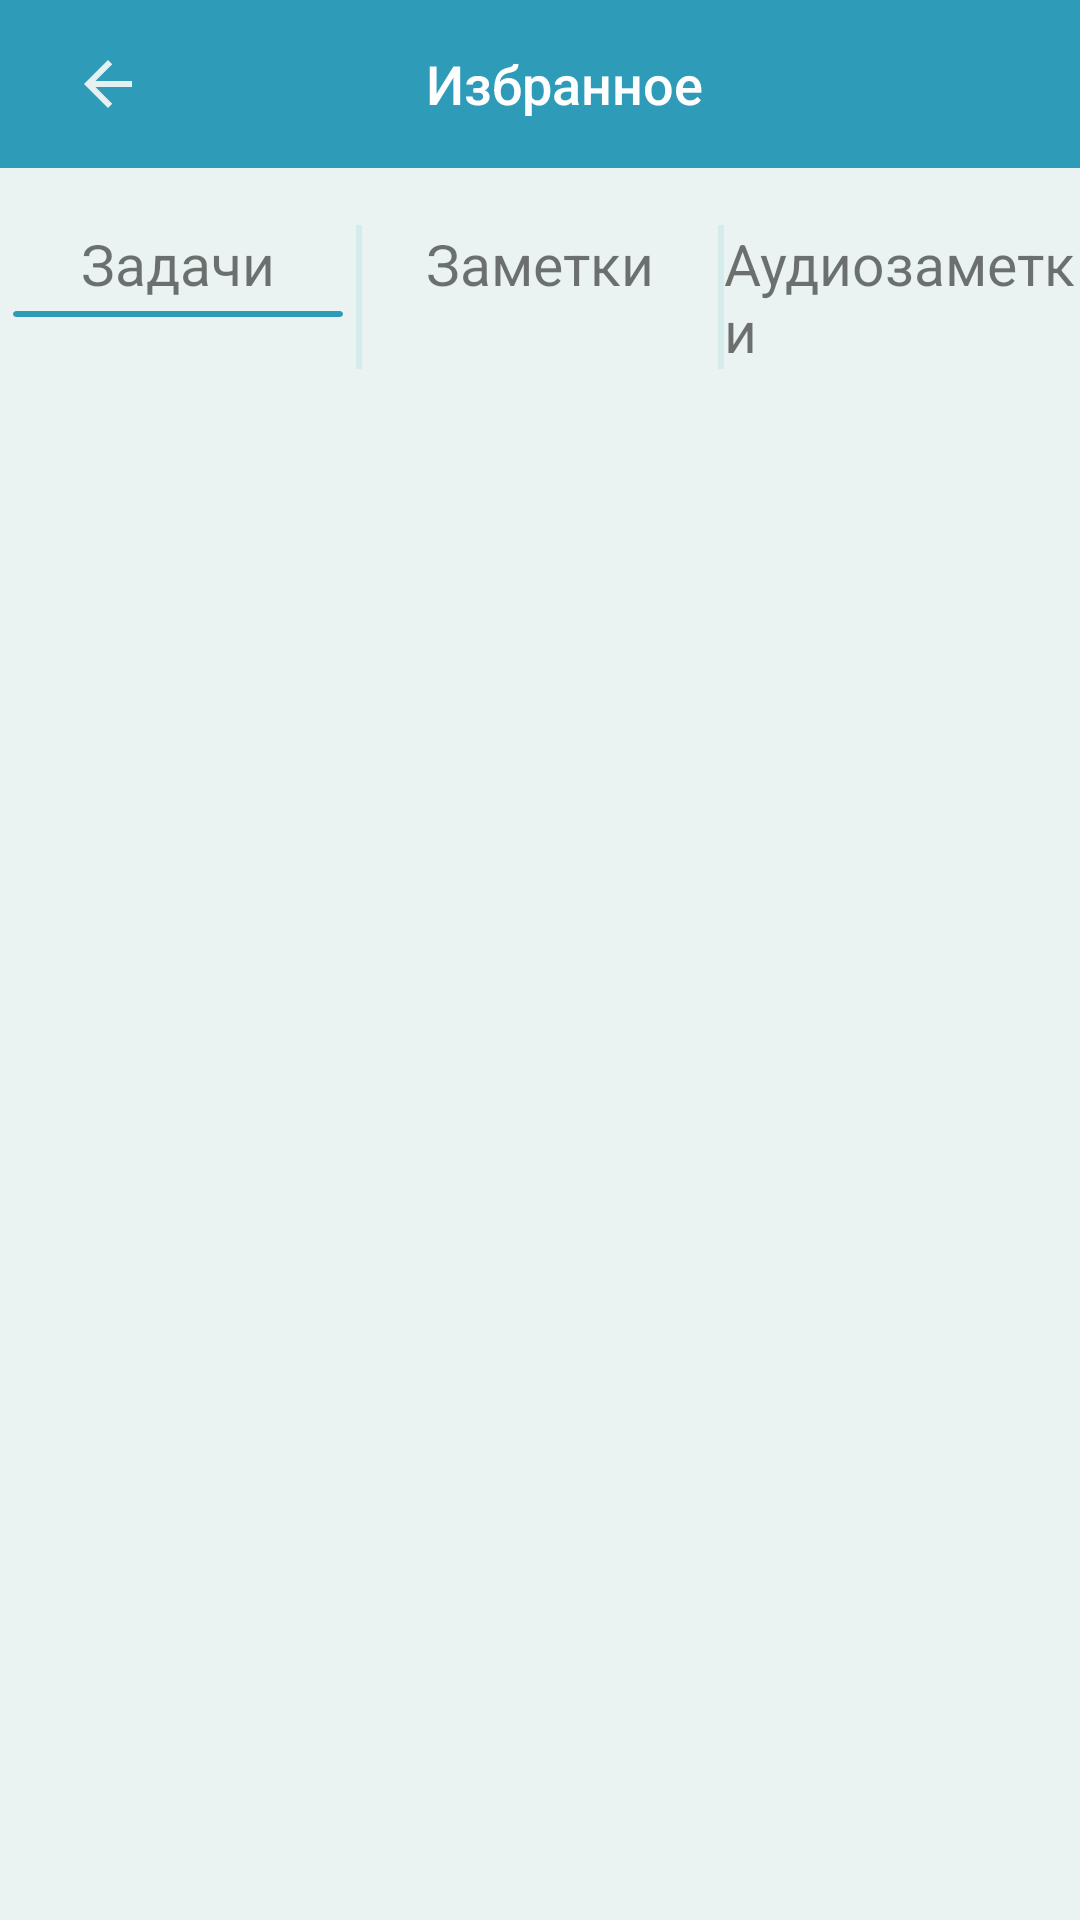

Icons on this 1080×1920 Android screen, each with the point to tap as (x,y):
arrow back: (108,84)
